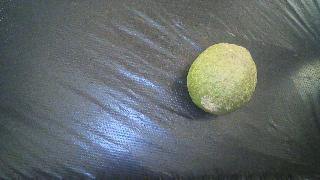DESECHO: (187, 43, 257, 115)
